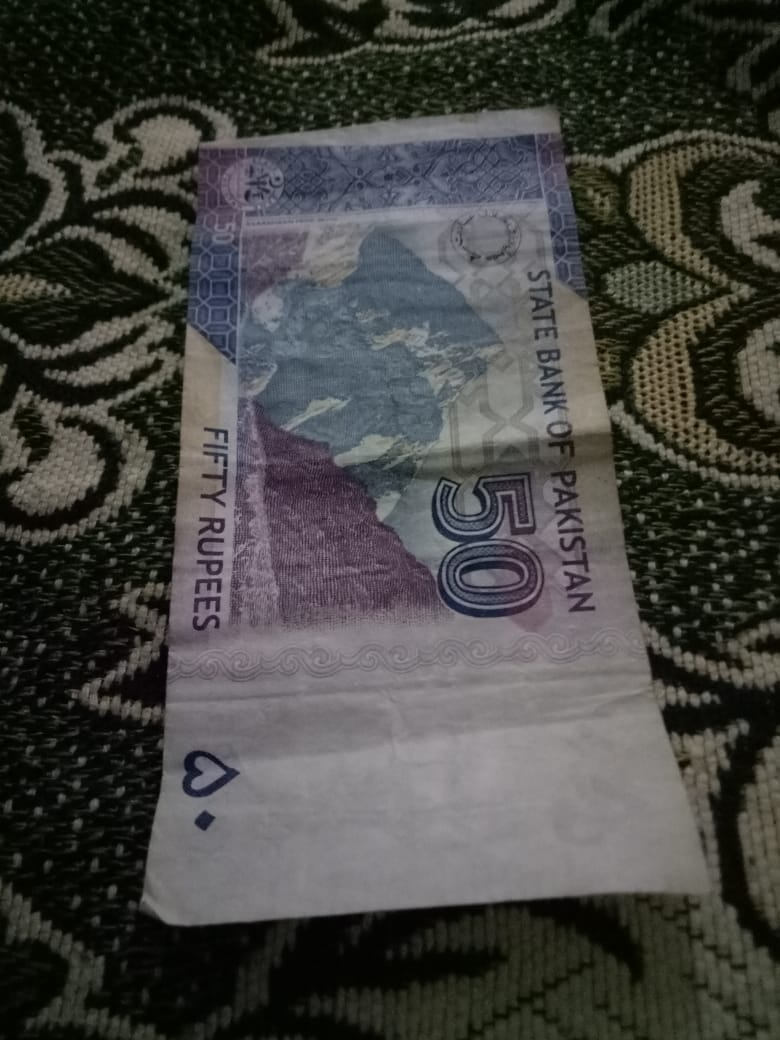50 rupee: (149, 115, 671, 987)
